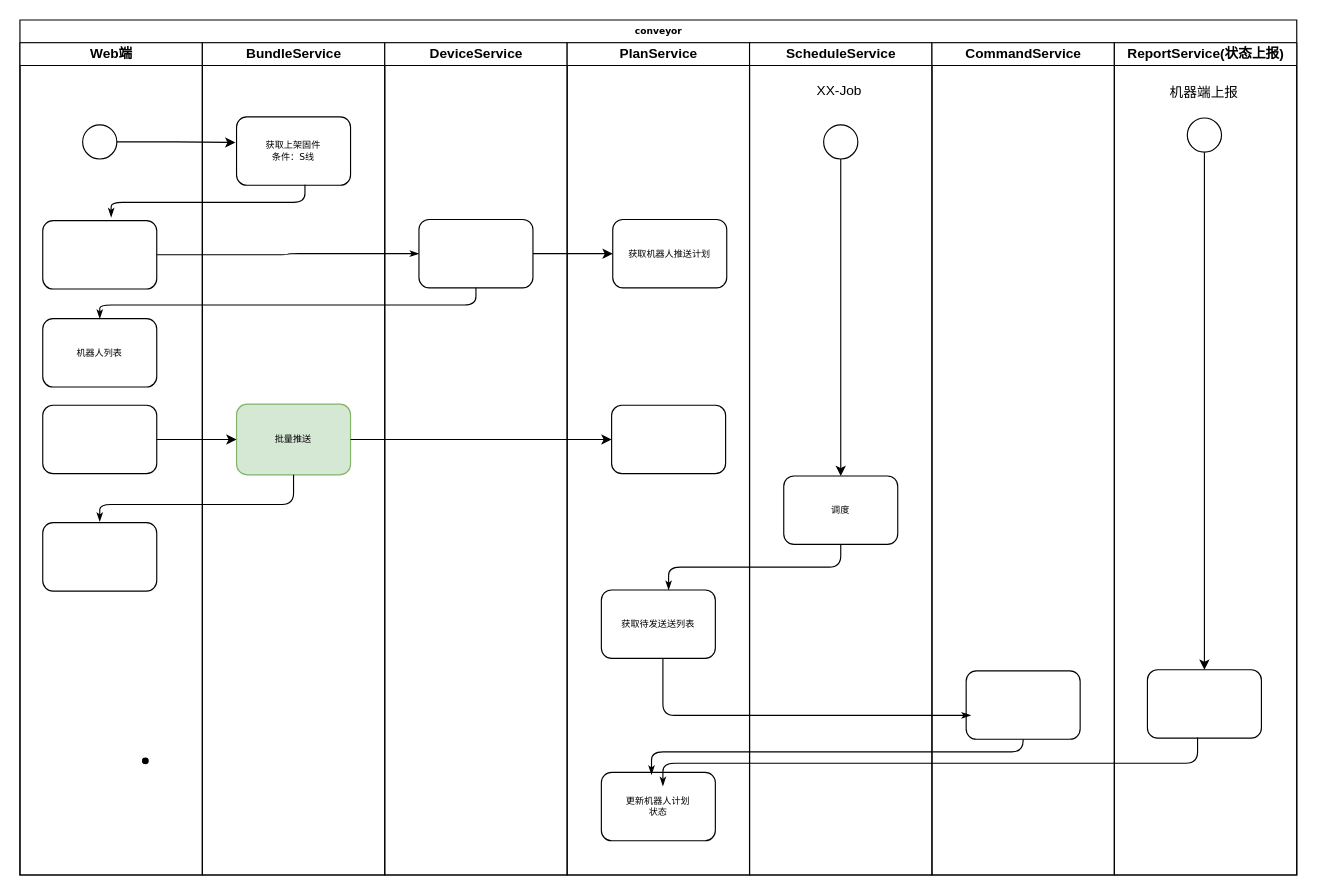
The diagram is 1317 pixels wide and 895 high, and some of its shapes have lost their labels. The shapes that lost their labels are listed below. From the top down, each one's centre as x and y in pixels, then its label:
At (x=99, y=254): "S线固件列表".
At (x=475, y=253): "获取机器人列表".
At (x=99, y=439): "覆盖提醒".
At (x=668, y=439): "插入或覆盖机器人计划".
At (x=99, y=556): "推送详情".
At (x=1022, y=704): "推送".
At (x=1203, y=703): "消息处理".
